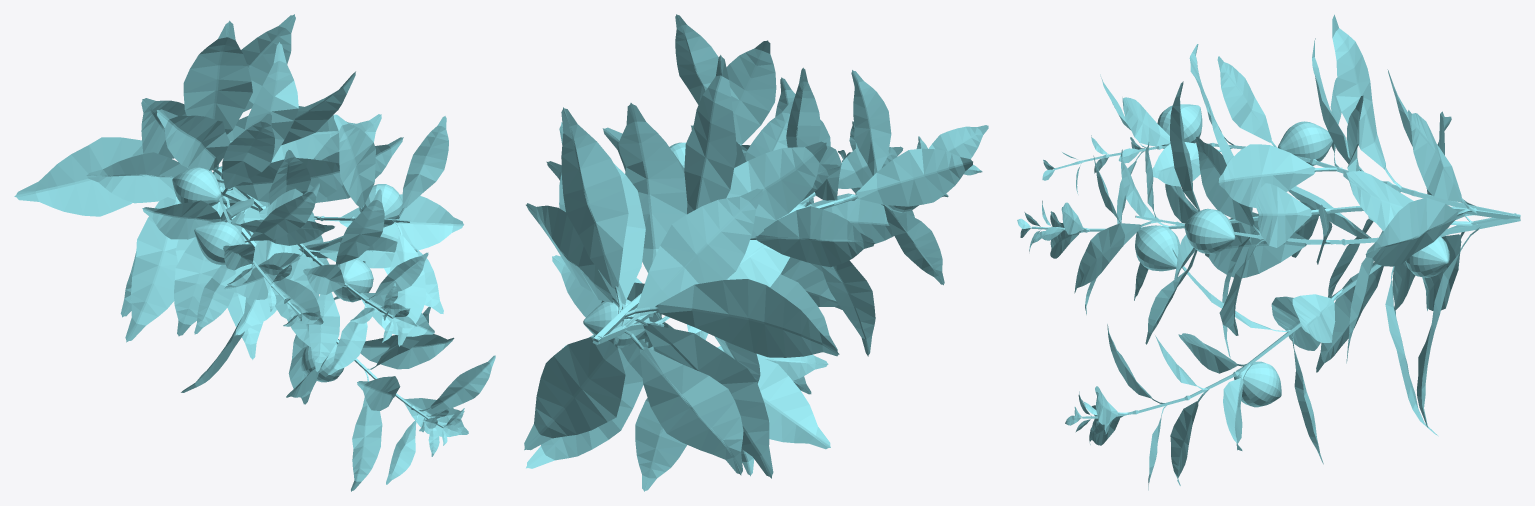
File: package_3.obj
3 views of the same model, side by side, from view 1: azimuth 30°, elevation 25°; view 2: azimuth 150°, elevation 25°; view 3: azimuth 270°, elevation 25° (orthographic). The views are drawn at different scales.
Visible parts, largest first — view 1: package_3_1, package_3_2, package_3_3, package_3_0; view 2: package_3_1, package_3_3, package_3_0; view 3: package_3_1, package_3_2, package_3_0, package_3_3.
Part boxes in pixels (bbox=[...]): package_3_1: bbox=[14, 14, 495, 491]; package_3_2: bbox=[172, 167, 373, 382]; package_3_3: bbox=[194, 166, 402, 264]; package_3_0: bbox=[210, 168, 444, 428]; package_3_1: bbox=[524, 14, 988, 491]; package_3_3: bbox=[583, 142, 918, 348]; package_3_0: bbox=[592, 192, 856, 347]; package_3_1: bbox=[1017, 14, 1479, 490]; package_3_2: bbox=[1135, 121, 1333, 407]; package_3_0: bbox=[1032, 143, 1520, 418]; package_3_3: bbox=[1157, 104, 1449, 277].
Bounding box in the file's own units: 0.3417 × 0.403 × 0.4106.
